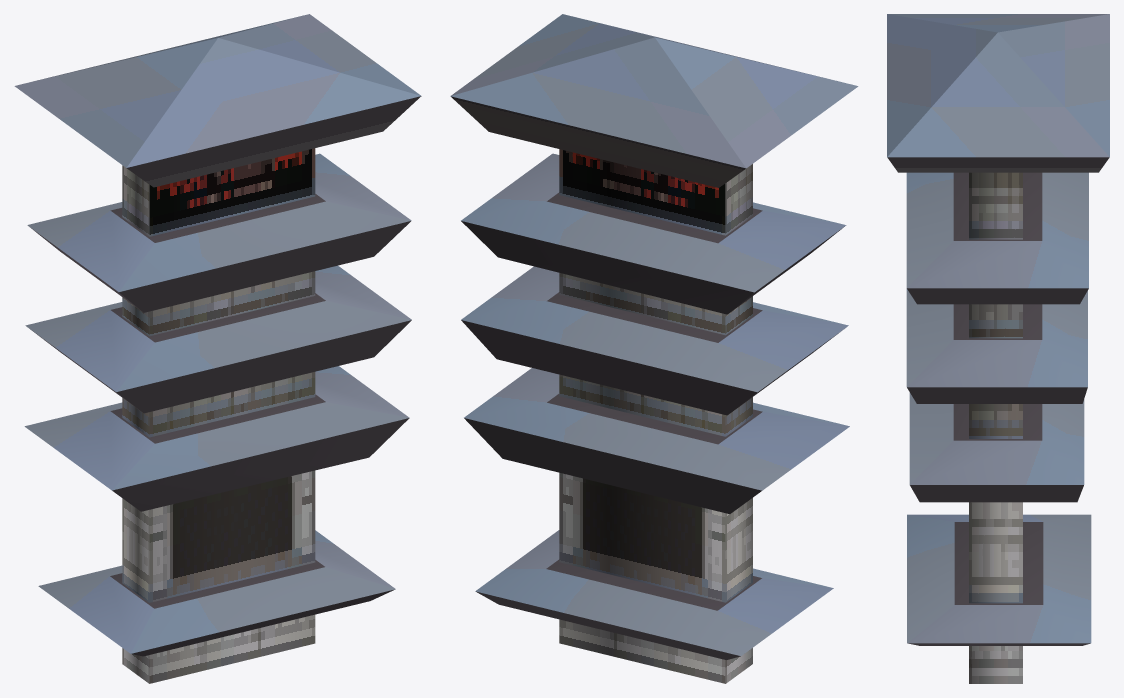
Rendered from lodadcasign_lvs.obj.
The picture shows the model from 3 angles, left to right: view 1: azimuth 30°, elevation 25°; view 2: azimuth 150°, elevation 25°; view 3: azimuth 270°, elevation 25°; orthographic projection.
Visible parts, largest first — view 1: lodadcasign_lvs; view 2: lodadcasign_lvs; view 3: lodadcasign_lvs.
Part boxes in pixels (x1=…): lodadcasign_lvs: x1=14, y1=14, x2=421, y2=683; lodadcasign_lvs: x1=450, y1=14, x2=858, y2=683; lodadcasign_lvs: x1=887, y1=14, x2=1109, y2=683.
Bounding box in the file's own units: 19.29 × 37.95 × 12.53.
Materials: 2 (2 with a texture image).
